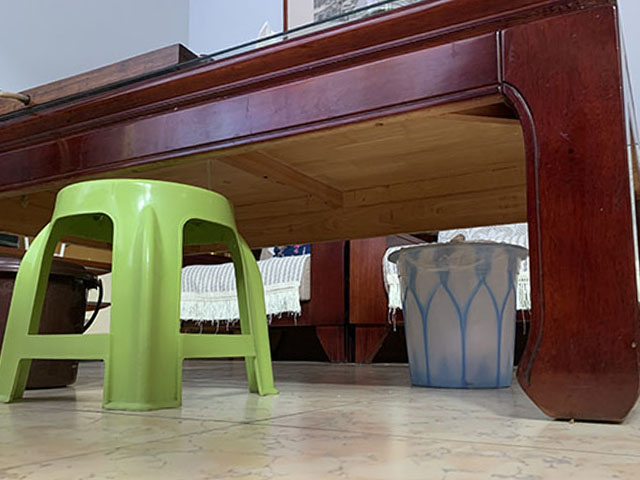sofa: (179, 221, 531, 365)
stool: (1, 176, 282, 413)
table: (1, 1, 640, 426)
trashcan: (386, 239, 531, 391)
